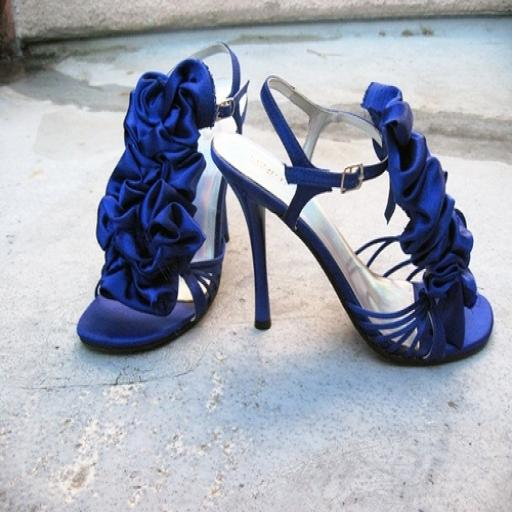heels: (212, 76, 493, 364), (77, 42, 248, 351)
